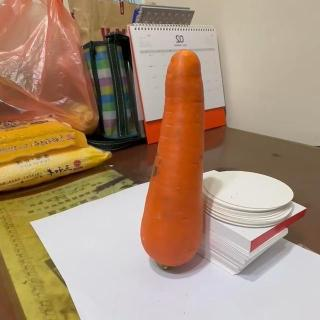carrot: (139, 48, 206, 268)
